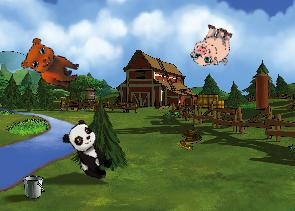bear: (18, 35, 85, 90)
panda: (58, 117, 119, 184)
pig: (187, 20, 237, 72)
